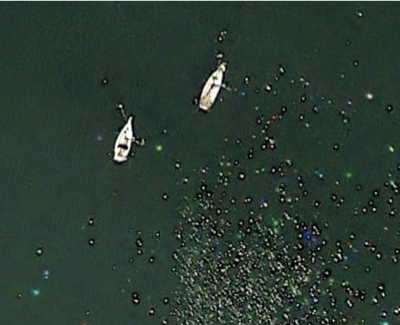boat: (198, 58, 228, 113), (113, 112, 137, 164)
